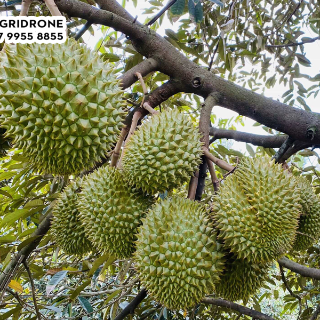sau_rieng: (5, 46, 125, 172), (210, 154, 305, 266), (139, 194, 219, 312), (118, 106, 206, 193)
